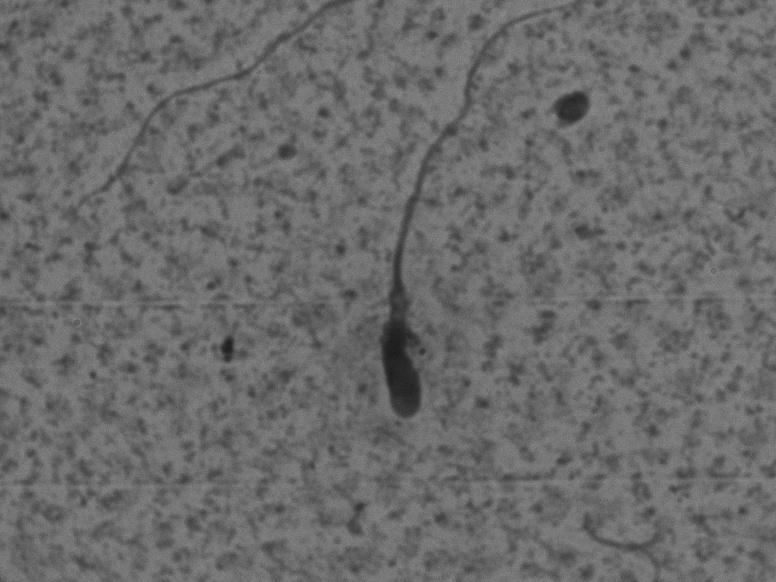Abnormal: (330, 7, 542, 456)
